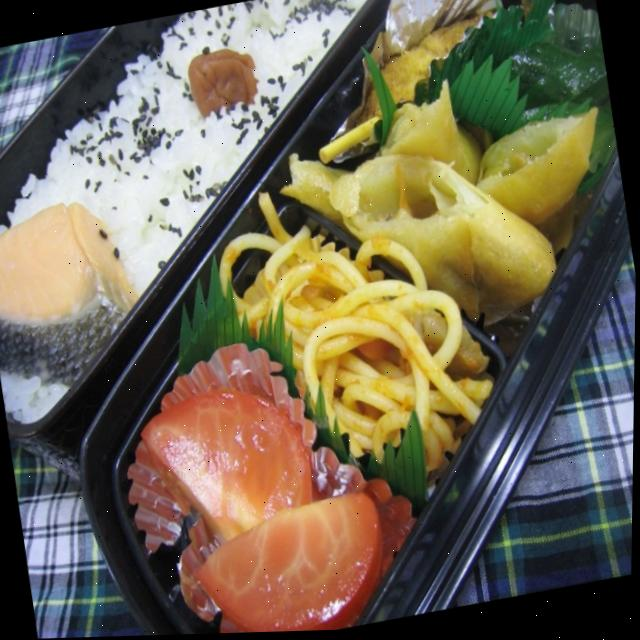熟制海鲜: (0, 164, 153, 416)
